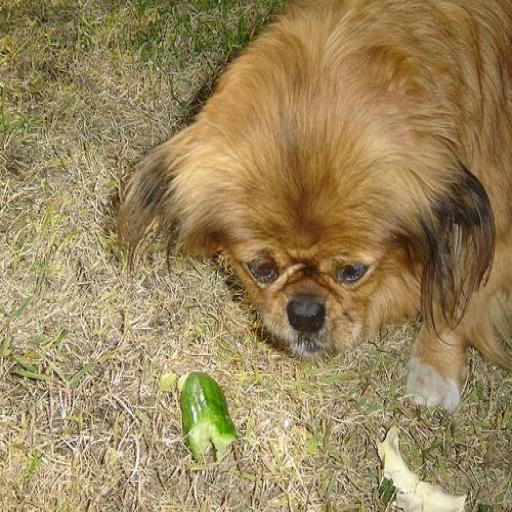dog_face: (130, 91, 487, 355)
